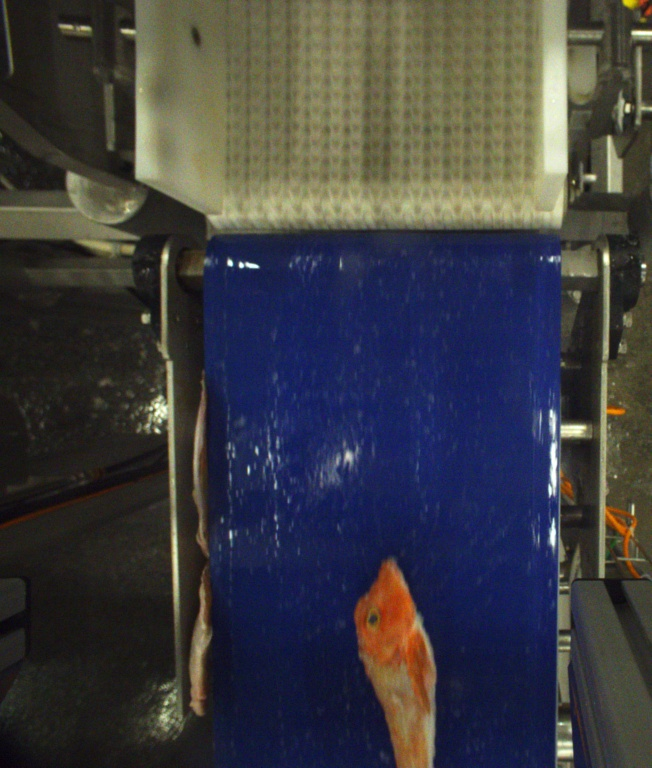GUU: (353, 557, 438, 768)
